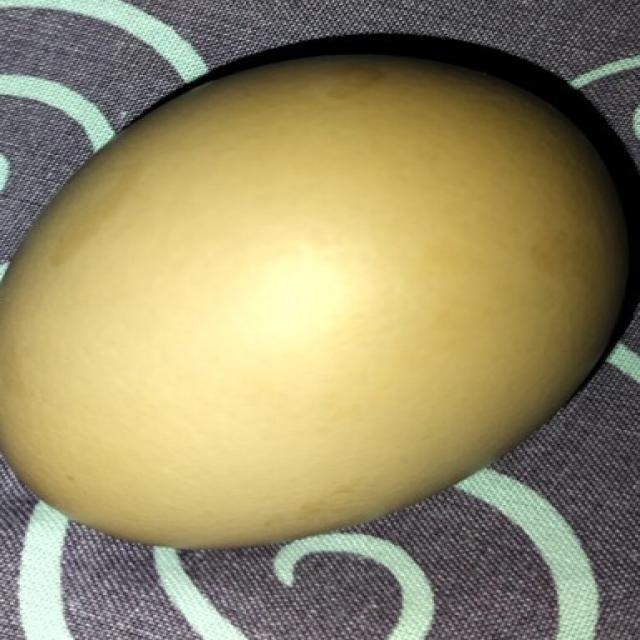fresh: (0, 35, 633, 554)
